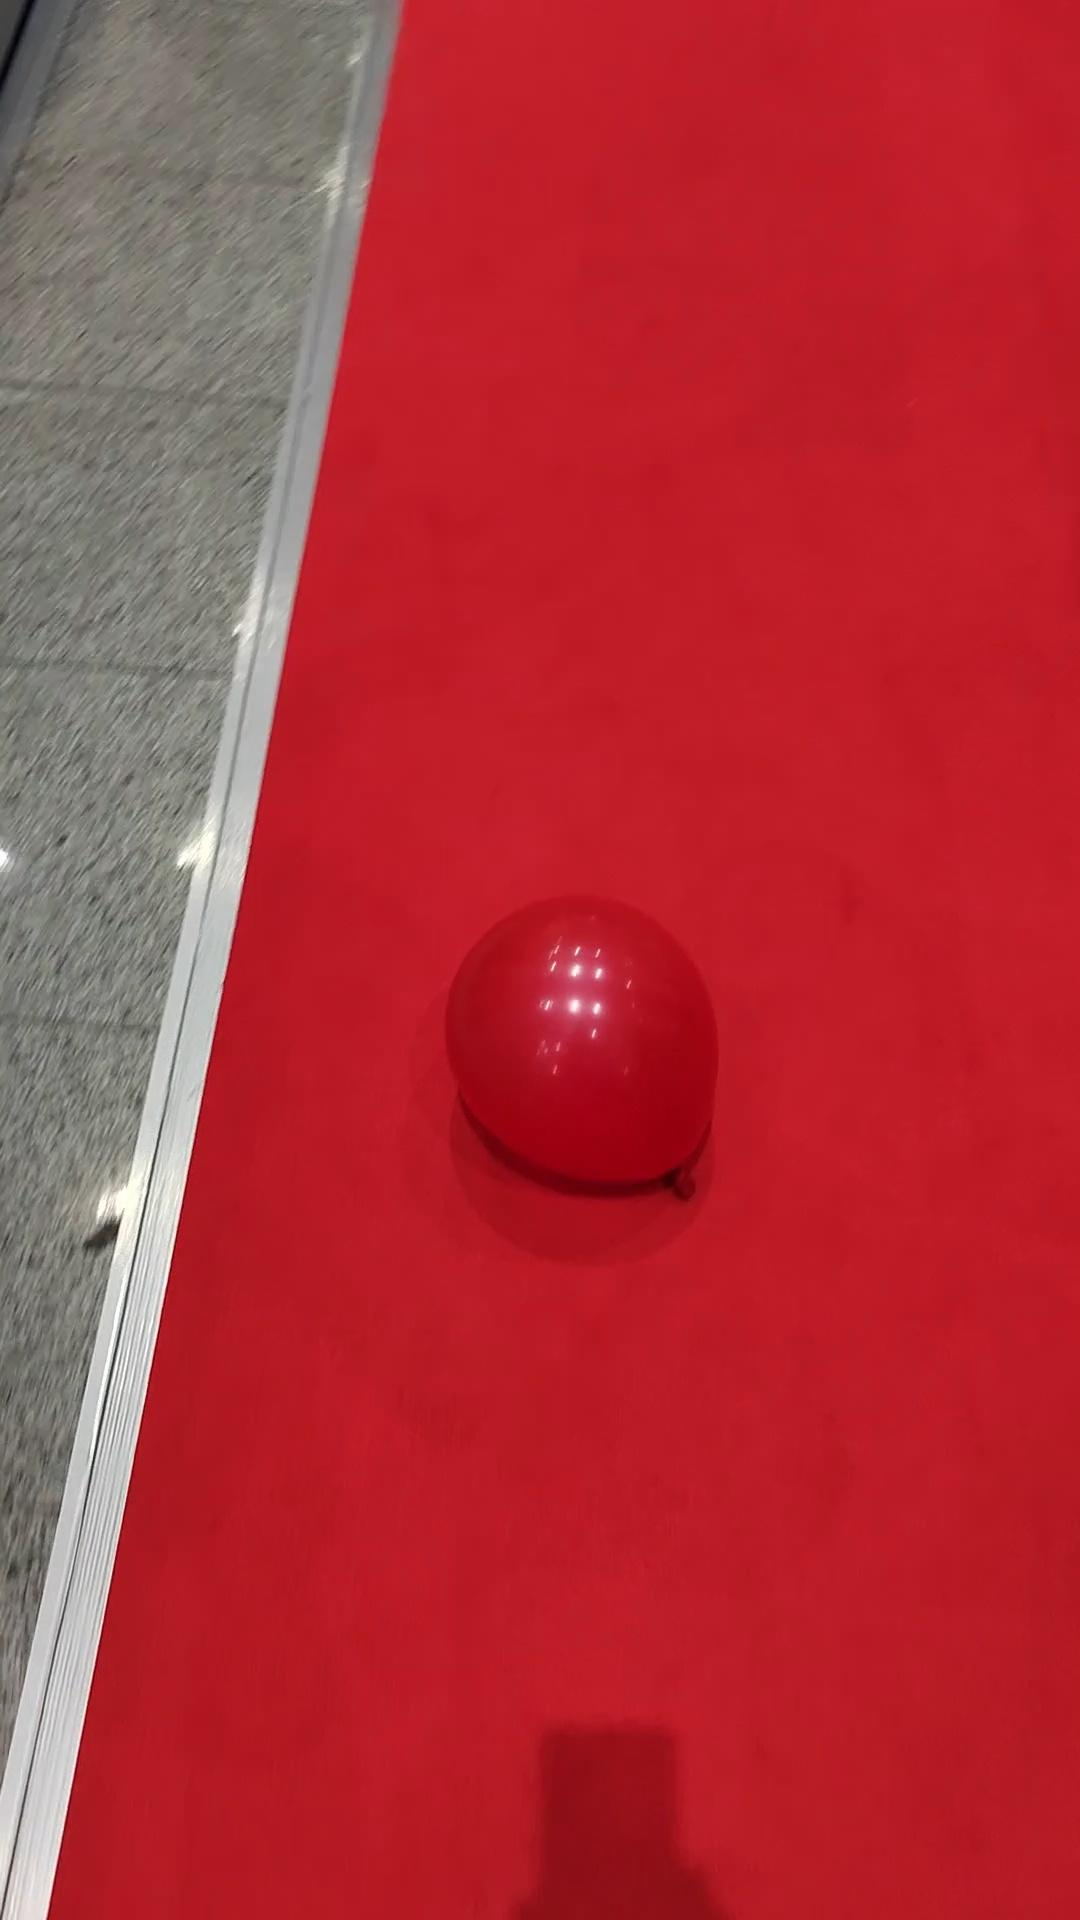red: (444, 895, 717, 1192)
